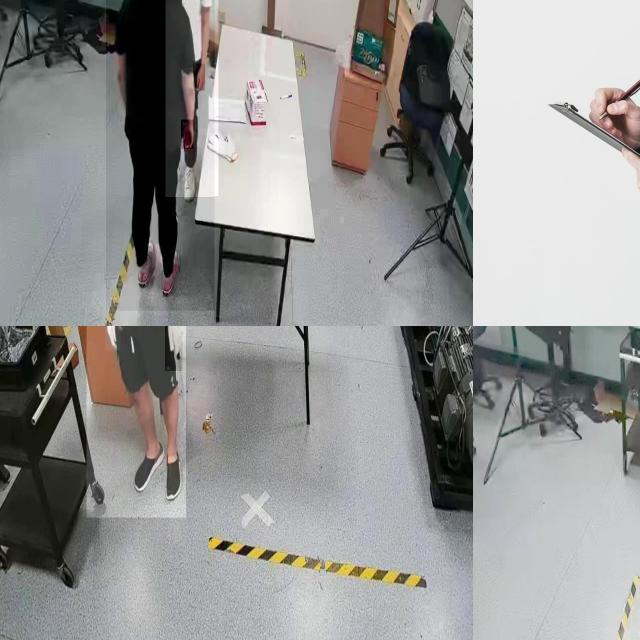hand_glove: (165, 326, 183, 371), (105, 326, 121, 351)
hand_noglove: (181, 120, 194, 150), (193, 64, 205, 92)
person: (106, 0, 215, 311), (86, 326, 186, 518), (165, 0, 218, 197)
shoes: (133, 430, 167, 491), (134, 234, 157, 290), (158, 245, 182, 298), (161, 443, 181, 501), (180, 164, 198, 206)
